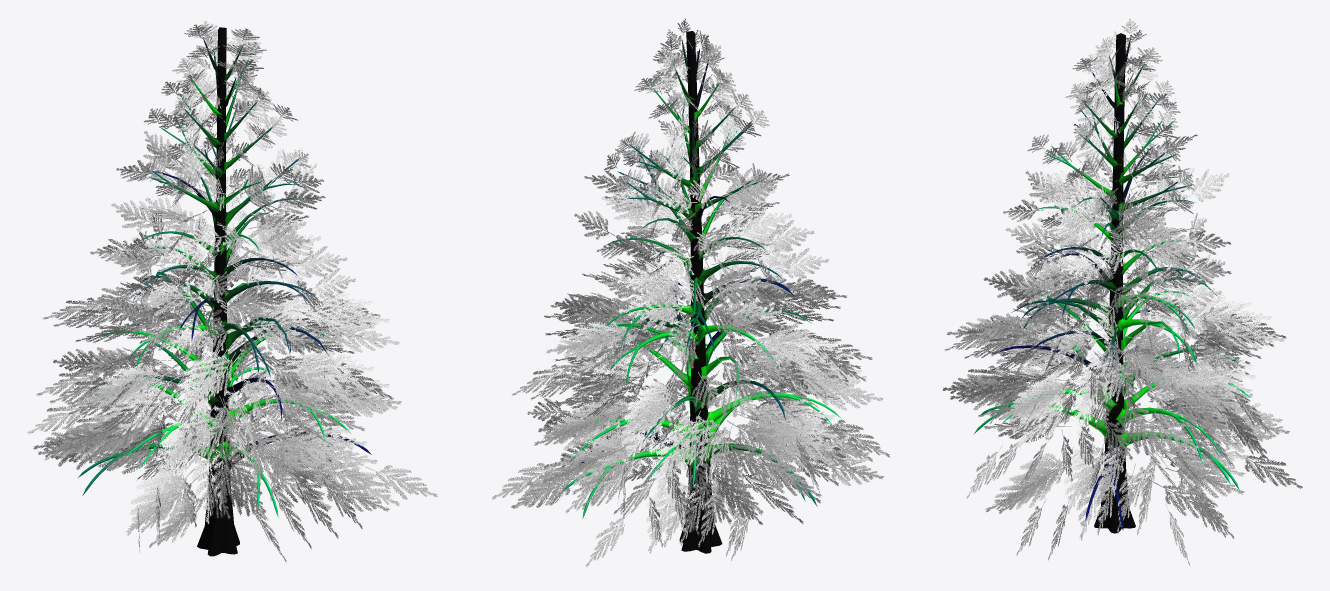
The model's file is Tree_Blender_003_Spruce.fbx.
The picture shows the model from 3 angles, left to right: view 1: azimuth 30°, elevation 25°; view 2: azimuth 150°, elevation 25°; view 3: azimuth 270°, elevation 25°; orthographic projection. The views are drawn at different scales.
Visible parts, largest first — view 1: leafclumpatlas_spruce_1, _0; view 2: leafclumpatlas_spruce_1, _0; view 3: leafclumpatlas_spruce_1, _0.
Boxes of the visible parts, x1,y1,x2,y2 form: leafclumpatlas_spruce_1: (27, 21, 437, 562); _0: (78, 27, 371, 556); leafclumpatlas_spruce_1: (492, 18, 889, 567); _0: (561, 31, 842, 553); leafclumpatlas_spruce_1: (942, 18, 1302, 565); _0: (973, 33, 1249, 533).
Size of the model in its own units: 635 by 923 by 637.
